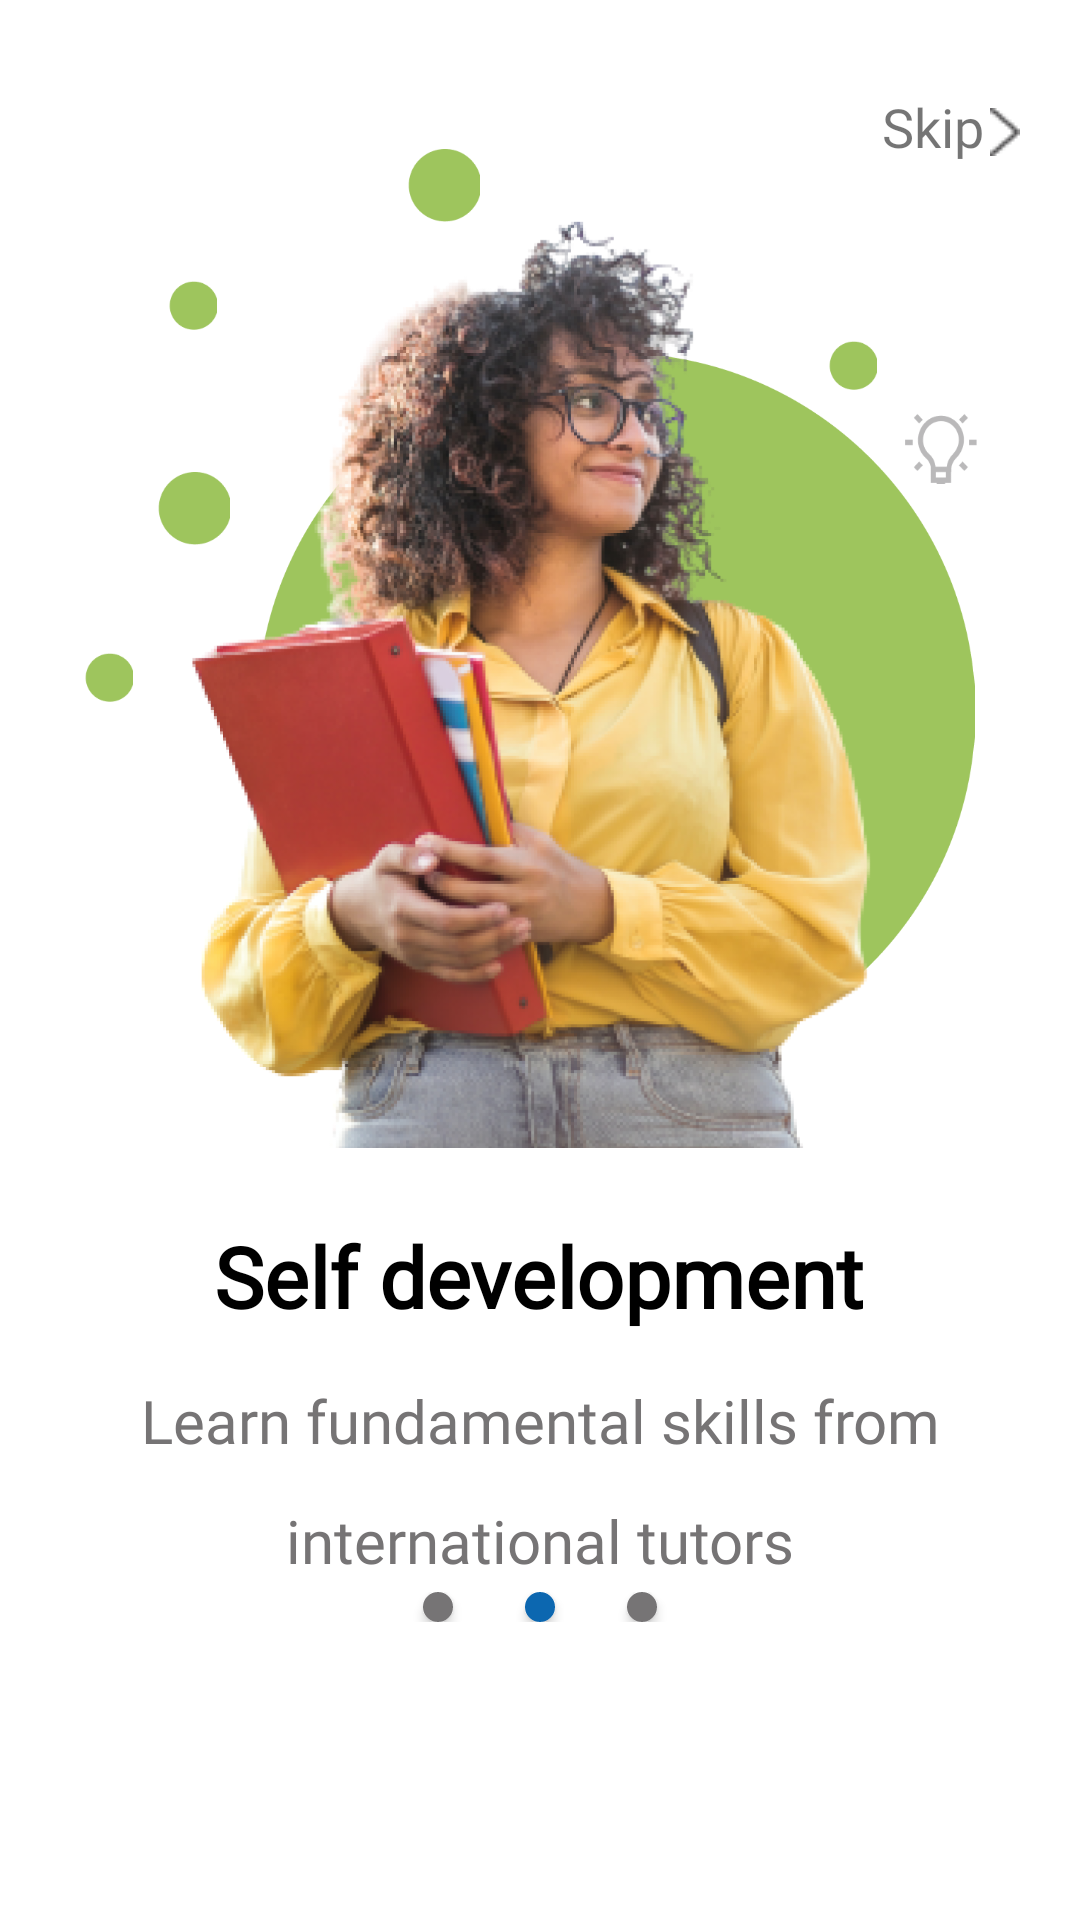

Icons on this 1080px x 1920px Android screen, each with its box as [x1=x1, y1=y1, x2=x2, y2=y2]:
arrow: [x1=990, y1=108, x2=1020, y2=156]
idea: [x1=905, y1=414, x2=977, y2=484]
